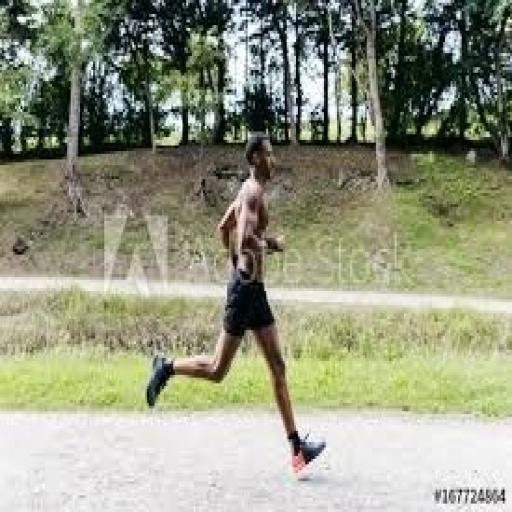running: (143, 129, 328, 481)
